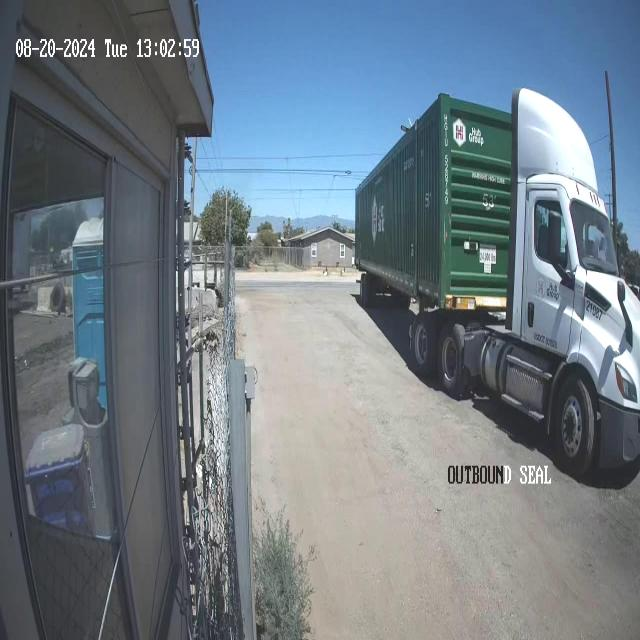CONTAINER: (353, 85, 512, 322)
